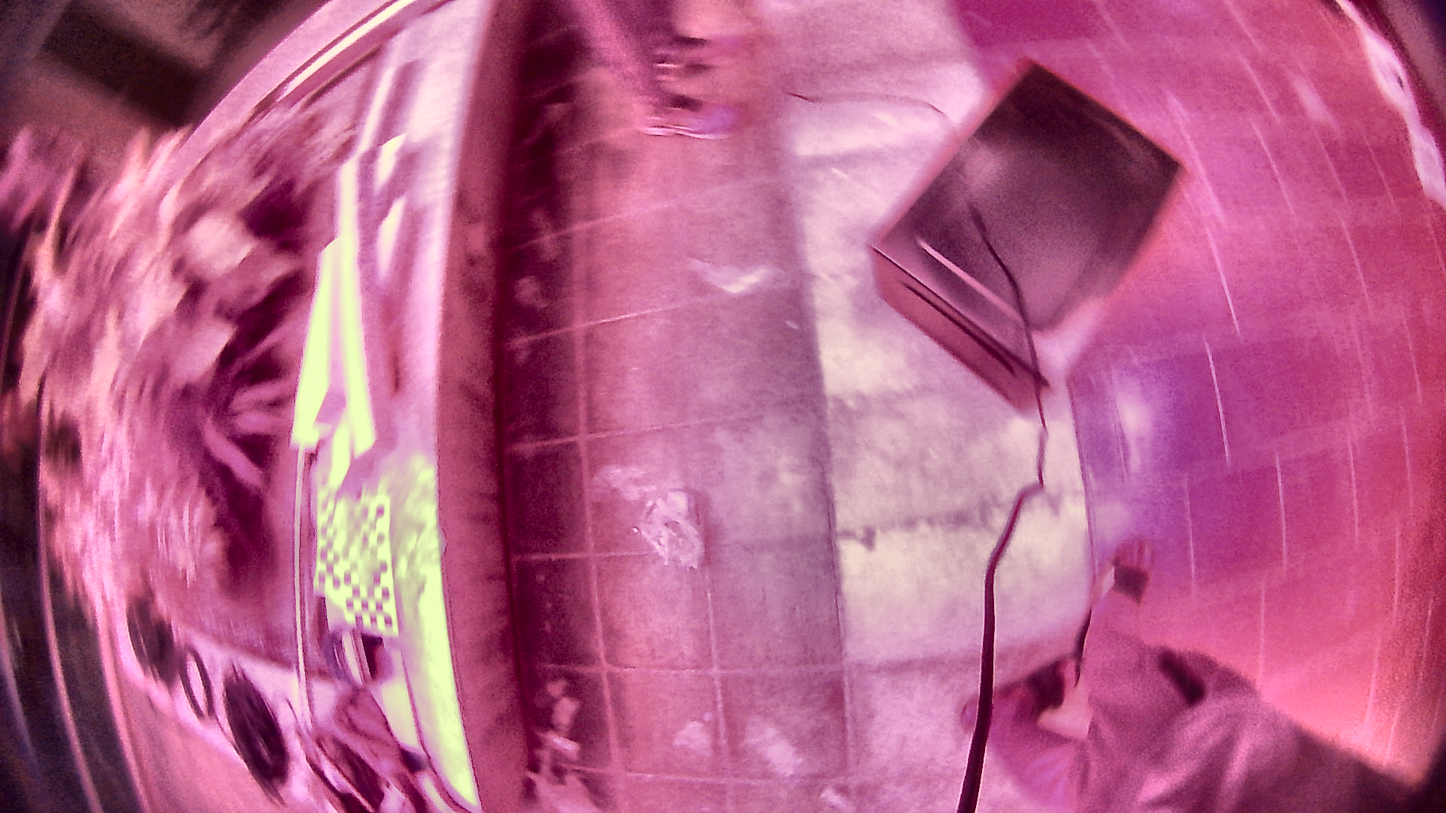MicroWave: (830, 56, 1204, 428)
